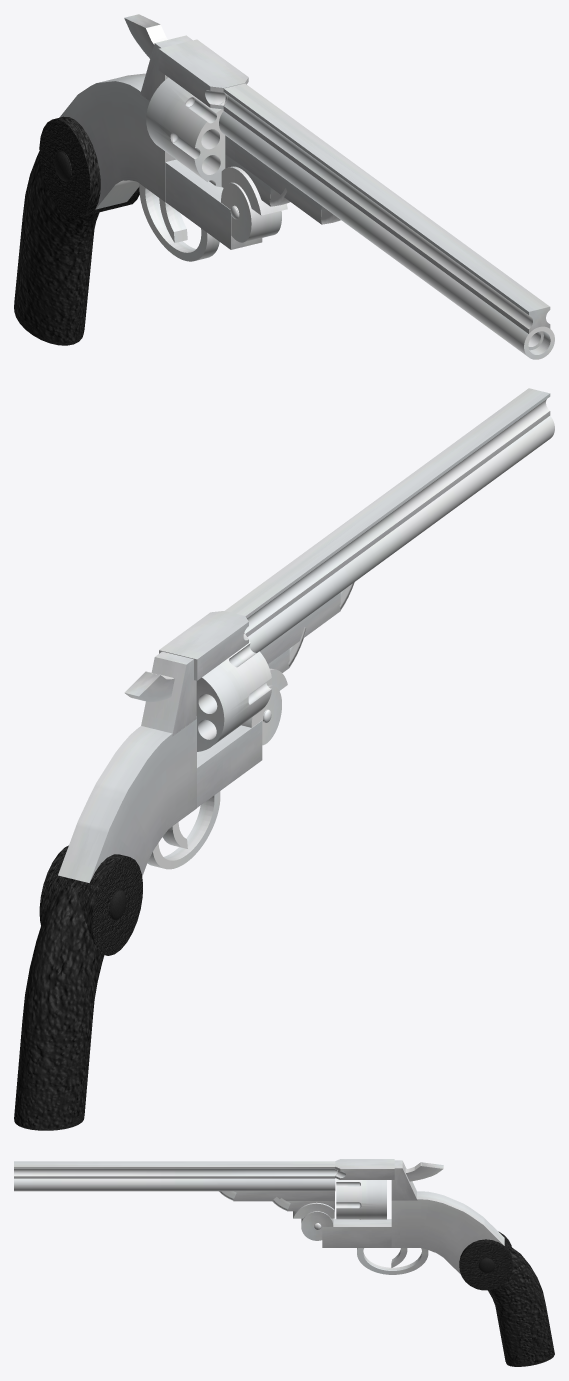
The model's file is revolver.fbx.
3 views of the same model, one above another, from view 1: azimuth 30°, elevation 25°; view 2: azimuth 150°, elevation 25°; view 3: azimuth 270°, elevation 25° (orthographic). The views are drawn at different scales.
Visible parts, largest first — view 1: pCylinder27, group14_pasted__pasted__pSphere1; view 2: pCylinder27, group14_pasted__pasted__pSphere1; view 3: pCylinder27, group14_pasted__pasted__pSphere1.
Part boxes in pixels (x1,y1,x2,y2): pCylinder27: (59, 14, 554, 359); group14_pasted__pasted__pSphere1: (14, 116, 139, 345); pCylinder27: (58, 388, 554, 882); group14_pasted__pasted__pSphere1: (14, 845, 142, 1130); pCylinder27: (14, 1159, 504, 1274); group14_pasted__pasted__pSphere1: (459, 1231, 554, 1366).
Size of the model in its own units: 2.95 by 13.68 by 33.68.
2 materials, 2 textured.
